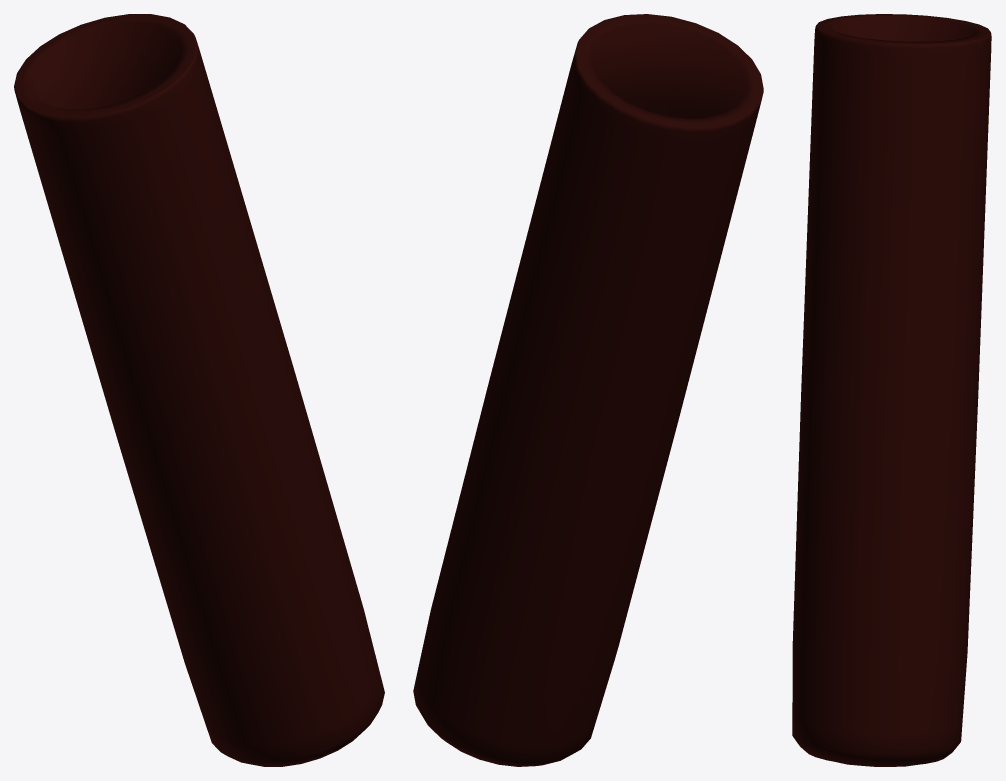
3 views of the same model, side by side, from view 1: azimuth 30°, elevation 25°; view 2: azimuth 150°, elevation 25°; view 3: azimuth 270°, elevation 25° (orthographic). The views are drawn at different scales.
Parts seen in each view (by area): view 1: Cylinder; view 2: Cylinder; view 3: Cylinder.
Part boxes in pixels (x1,y1,x2,y2): Cylinder: [14, 14, 384, 766]; Cylinder: [413, 14, 763, 766]; Cylinder: [792, 14, 991, 766].
Bounding box in the file's own units: 5.76 × 12.17 × 3.23.
